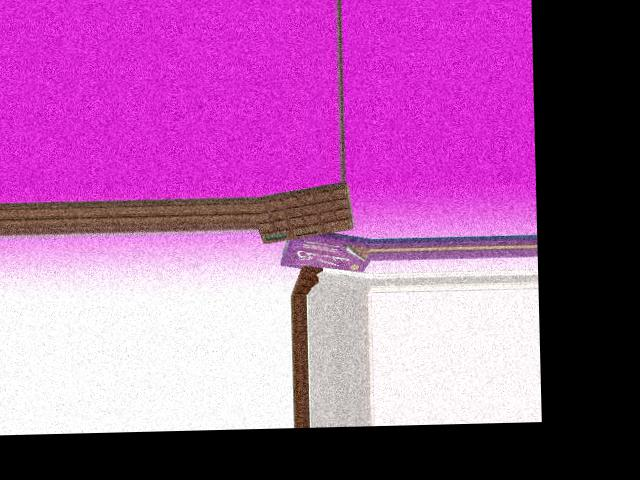chocolate: (260, 181, 352, 245)
